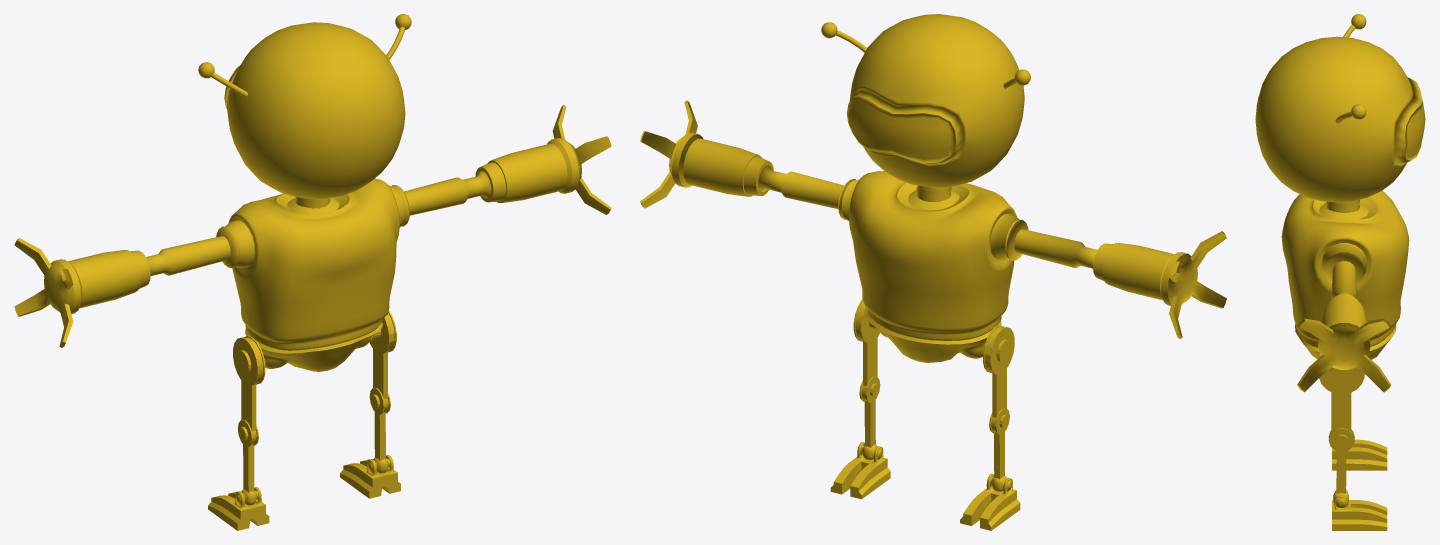
File: NPC yellow.fbx
3 views of the same model, side by side, from view 1: azimuth 30°, elevation 25°; view 2: azimuth 150°, elevation 25°; view 3: azimuth 270°, elevation 25° (orthographic). The views are drawn at different scales.
Visible parts, largest first — view 1: Head; view 2: Head; view 3: Head.
Part boxes in pixels (x1=…): Head: x1=14, y1=14, x2=611, y2=530; Head: x1=640, y1=14, x2=1226, y2=530; Head: x1=1255, y1=14, x2=1425, y2=530.
Bounding box in the file's own units: 181 × 51.66 × 150.
